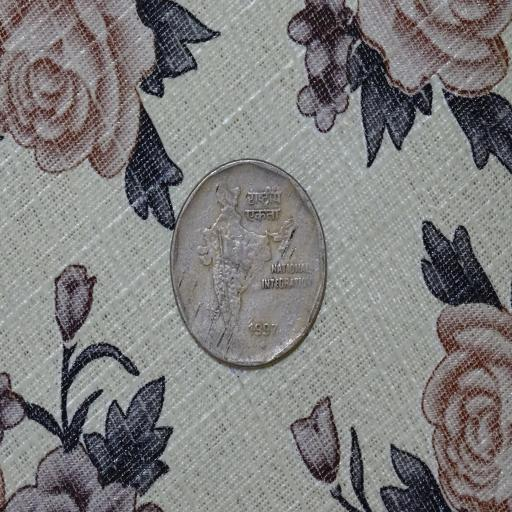rupee2: (168, 161, 326, 371)
